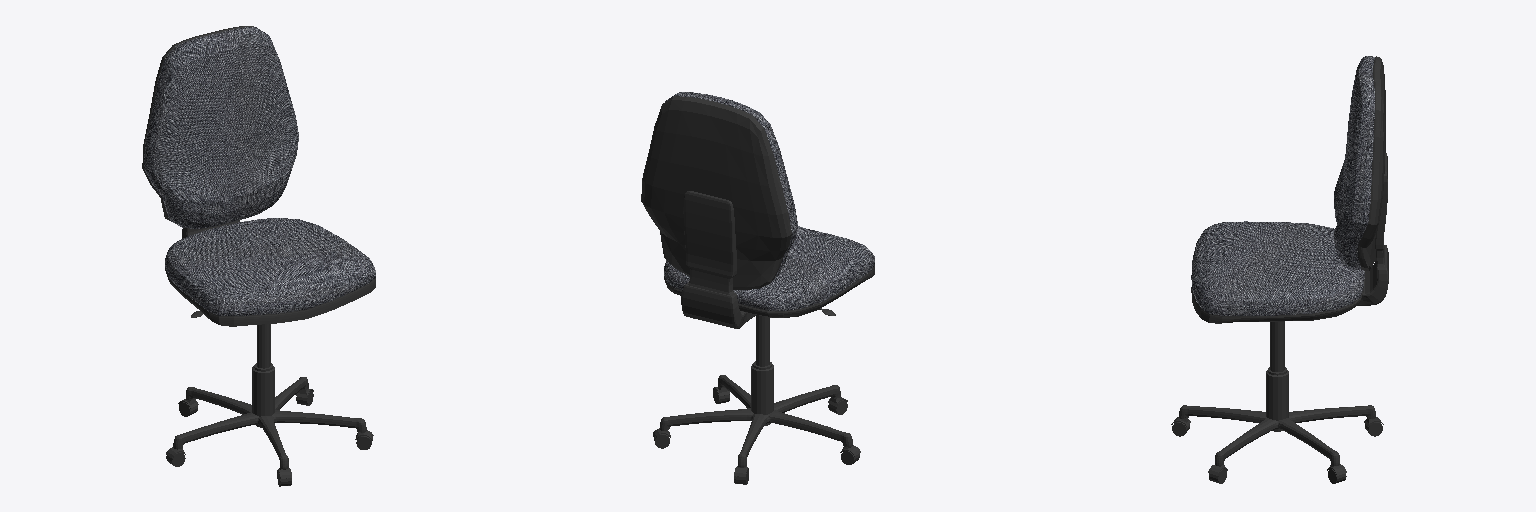
3 renders of one model, left to right at view 1: azimuth 30°, elevation 25°; view 2: azimuth 150°, elevation 25°; view 3: azimuth 270°, elevation 25°, orthographic.
Bounding box in the file's own units: 0.5293 × 1.07 × 0.5625.
2 materials, 2 textured.